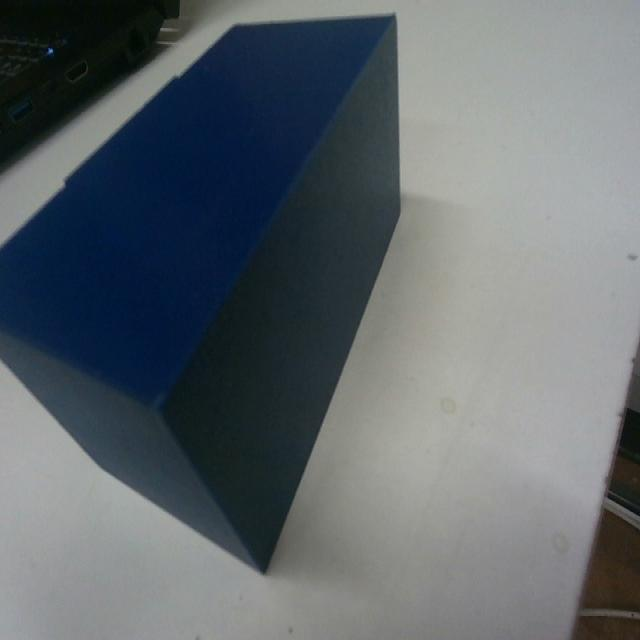Blue Cuboid: (0, 9, 404, 574)
